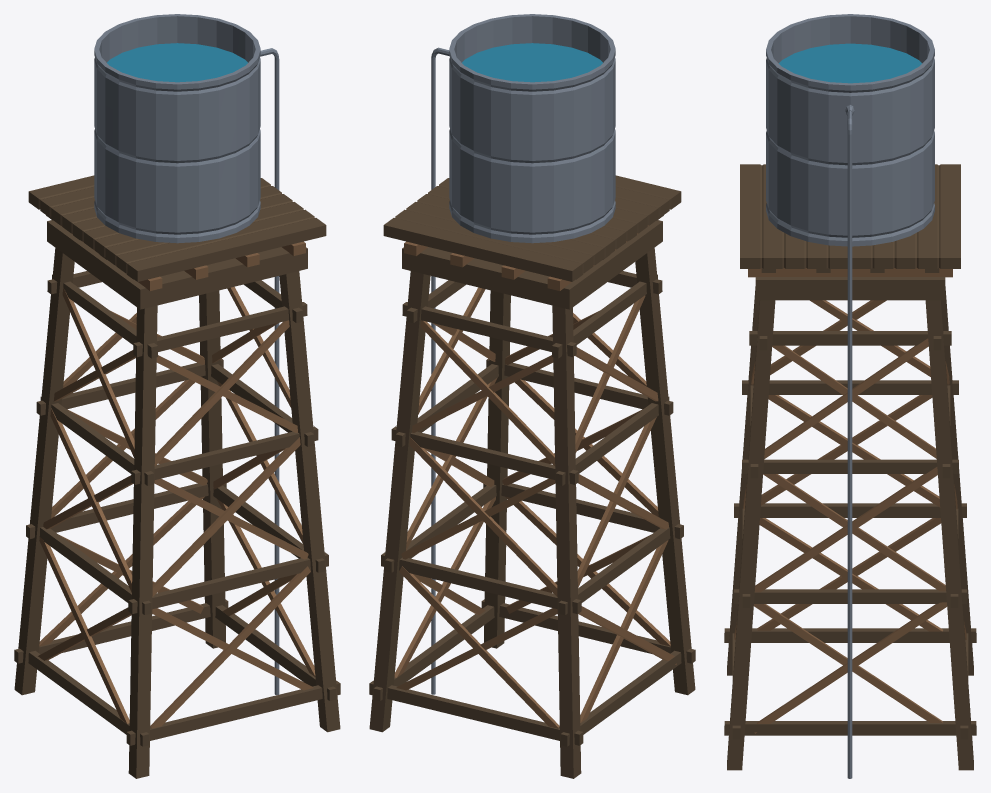
Rendered from SM_Water_Tank_01.gltf.
3 views of the same model, side by side, from view 1: azimuth 30°, elevation 25°; view 2: azimuth 150°, elevation 25°; view 3: azimuth 270°, elevation 25° (orthographic).
Parts seen in each view (by area): view 1: SM_Water_Tank_01; view 2: SM_Water_Tank_01; view 3: SM_Water_Tank_01.
Boxes of the visible parts, x1,y1,x2,y2 form: SM_Water_Tank_01: [14, 14, 340, 778]; SM_Water_Tank_01: [369, 14, 695, 778]; SM_Water_Tank_01: [724, 14, 976, 778].
Bounding box in the file's own units: 2.88 × 8.77 × 2.95.
Materials: 1 (1 with a texture image).
